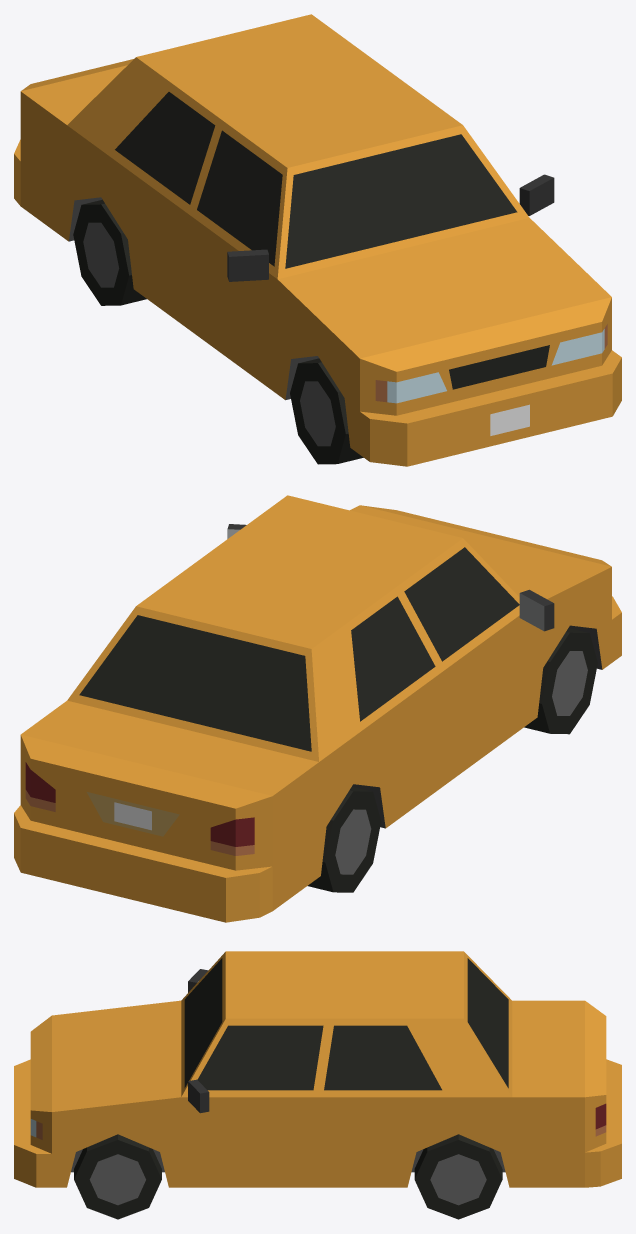
File: Veh_Sedan_01_Yellow.glb
3 views of the same model, one above another, from view 1: azimuth 30°, elevation 25°; view 2: azimuth 150°, elevation 25°; view 3: azimuth 270°, elevation 25° (orthographic). The views are drawn at different scales.
Visible parts, largest first — view 1: Sedan_01_Yellow, Wheel_FR, Wheel_RR; view 2: Sedan_01_Yellow, Wheel_RR, Wheel_FR; view 3: Sedan_01_Yellow, Wheel_RL, Wheel_FL.
Part boxes in pixels (<box>): Sedan_01_Yellow: <box>14,14,621,466</box>; Wheel_FR: <box>290,358,363,464</box>; Wheel_RR: <box>73,199,146,305</box>; Sedan_01_Yellow: <box>14,495,621,922</box>; Wheel_RR: <box>308,786,381,892</box>; Wheel_FR: <box>524,628,597,734</box>; Sedan_01_Yellow: <box>14,951,621,1187</box>; Wheel_RL: <box>414,1134,502,1219</box>; Wheel_FL: <box>74,1134,161,1219</box>.
Bounding box in the file's own units: 1.22 × 0.852 × 2.52.
Materials: 1 (1 with a texture image).
